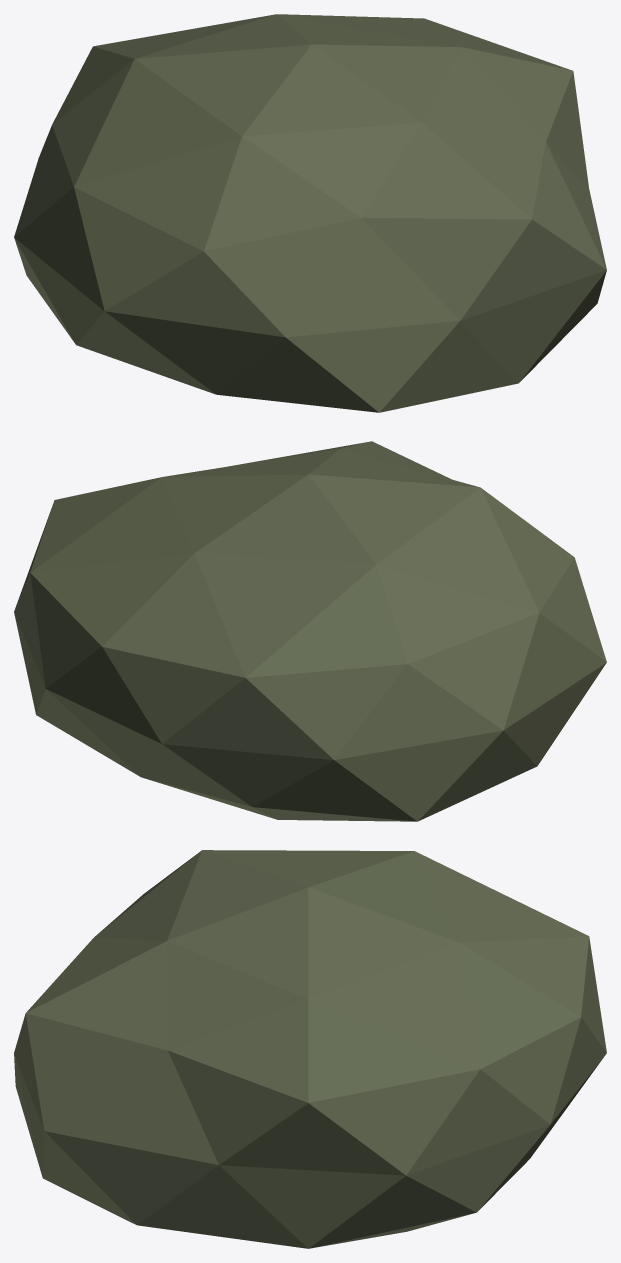
The model's file is rockMass2.obj.
3 renders of one model, top to bottom at view 1: azimuth 30°, elevation 25°; view 2: azimuth 150°, elevation 25°; view 3: azimuth 270°, elevation 25°, orthographic. The views are drawn at different scales.
Parts seen in each view (by area): view 1: rockMass2; view 2: rockMass2; view 3: rockMass2.
Part boxes in pixels (box(x1,y1,x2,y2)): rockMass2: box(14, 14, 606, 412); rockMass2: box(14, 441, 606, 821); rockMass2: box(14, 850, 606, 1248).
Bounding box in the file's own units: 1.84 × 1 × 1.84.
1 material, 1 textured.
